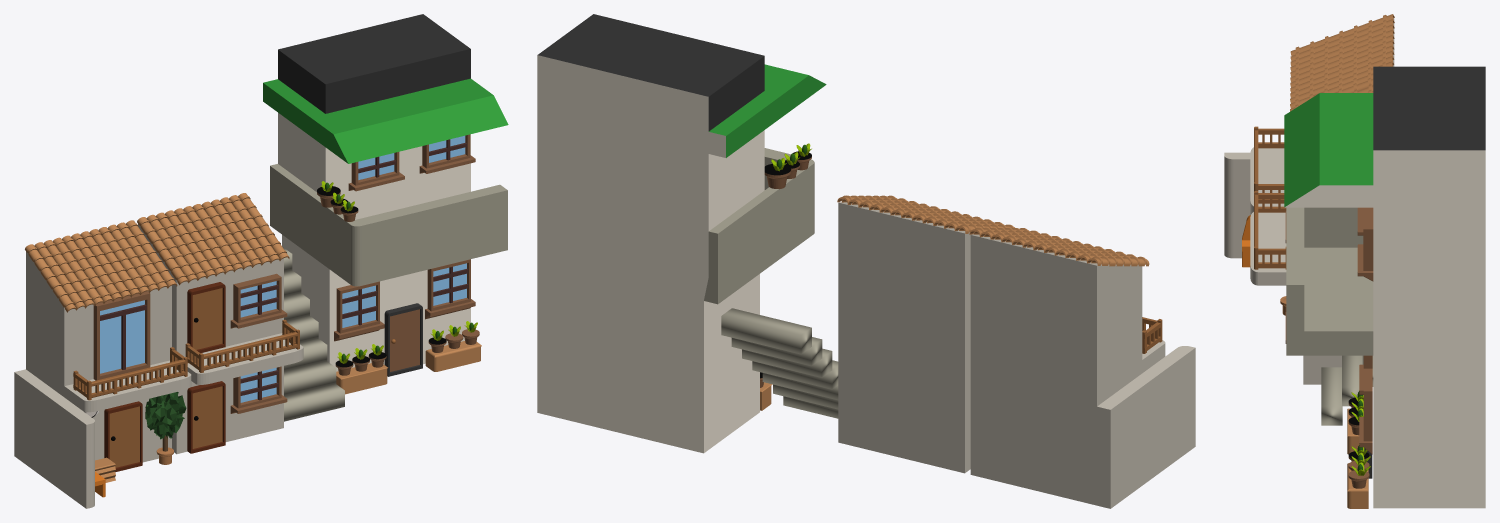
Rendered from multihouse.fbx.
The picture shows the model from 3 angles, left to right: view 1: azimuth 30°, elevation 25°; view 2: azimuth 150°, elevation 25°; view 3: azimuth 270°, elevation 25°; orthographic projection. The views are drawn at different scales.
Visible parts, largest first — view 1: house3, house2, house 1, ladder; view 2: house3, house2, house 1, ladder; view 3: house3, house2, house 1, ladder.
Boxes of the visible parts, left/top/right/bottom form: house3: left=263, top=14, right=508, bottom=394; house2: left=14, top=220, right=191, bottom=508; house 1: left=137, top=193, right=303, bottom=454; ladder: left=283, top=247, right=344, bottom=421; house3: left=537, top=14, right=826, bottom=453; house2: left=969, top=227, right=1195, bottom=508; house 1: left=837, top=195, right=1014, bottom=473; ladder: left=721, top=308, right=838, bottom=418; house3: left=1284, top=66, right=1485, bottom=508; house2: left=1224, top=14, right=1394, bottom=315; house 1: left=1250, top=84, right=1373, bottom=384; ladder: left=1321, top=355, right=1373, bottom=425.
Bounding box in the file's own units: 5755 × 3741 × 2461.
